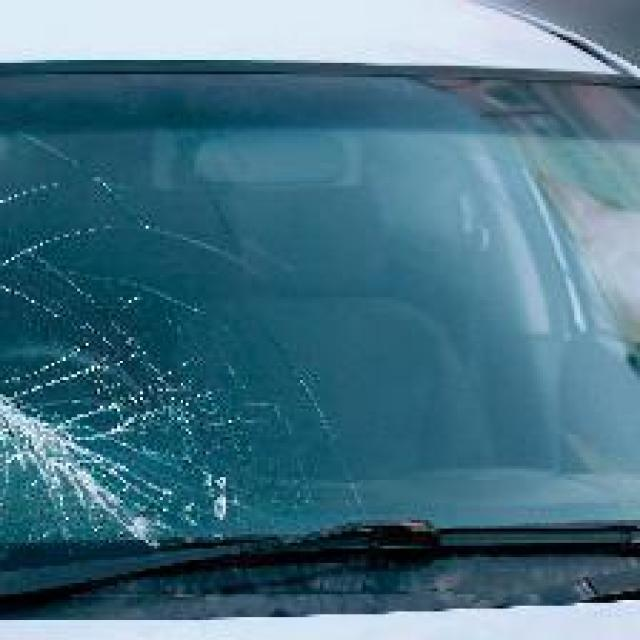damaged: (2, 128, 372, 554)
